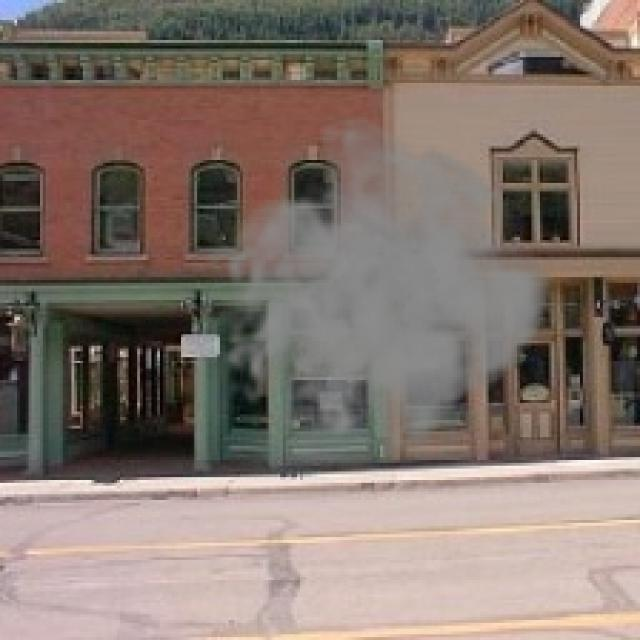Smoke: (202, 111, 558, 472)
